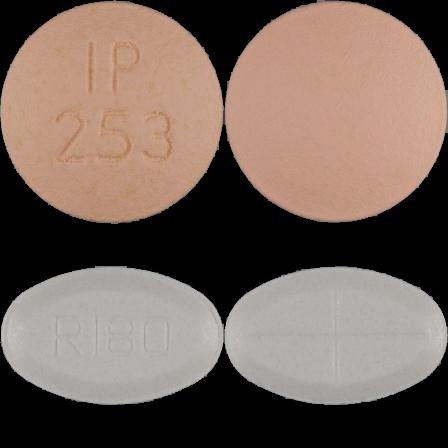63629-1671: (0, 0, 224, 224)
